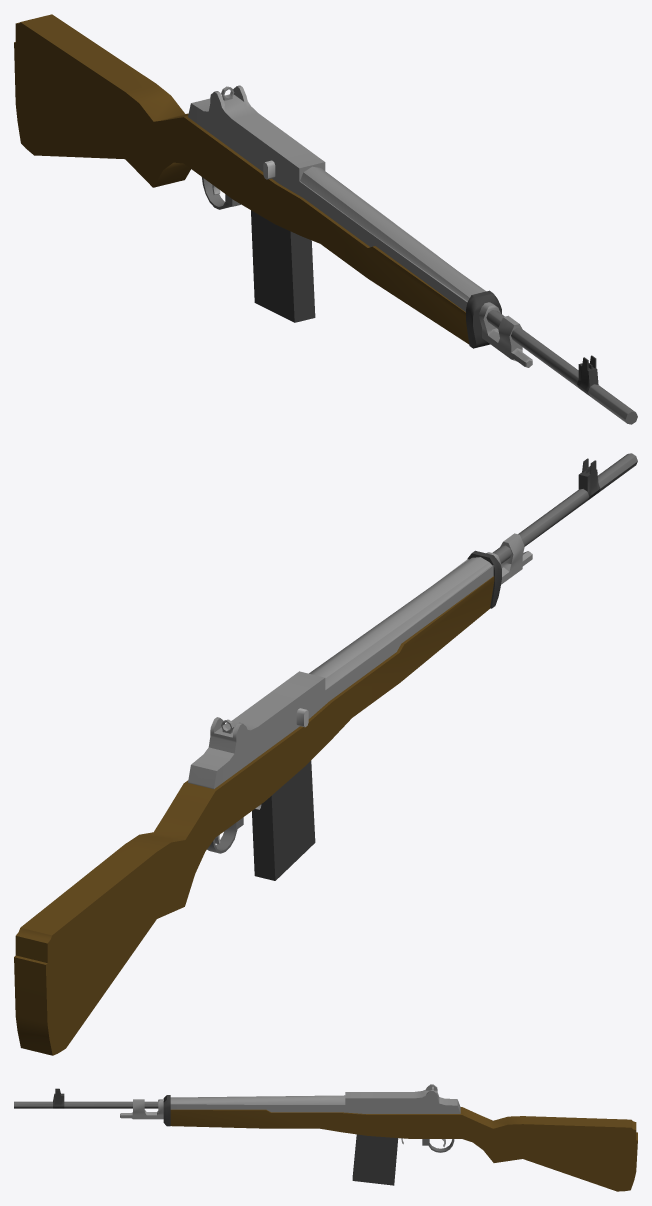
File: 16-Marksman-rifle.glb
The picture shows the model from 3 angles, top to bottom: view 1: azimuth 30°, elevation 25°; view 2: azimuth 150°, elevation 25°; view 3: azimuth 270°, elevation 25°; orthographic projection. The views are drawn at different scales.
Visible parts, largest first — view 1: Marksman rifle; view 2: Marksman rifle; view 3: Marksman rifle.
Part boxes in pixels (<box>): Marksman rifle: <box>14,14,637,424</box>; Marksman rifle: <box>14,453,637,1055</box>; Marksman rifle: <box>14,1084,637,1191</box>.
Size of the model in its own units: 0.0401 by 0.205 by 1.15.
1 material, 1 textured.
